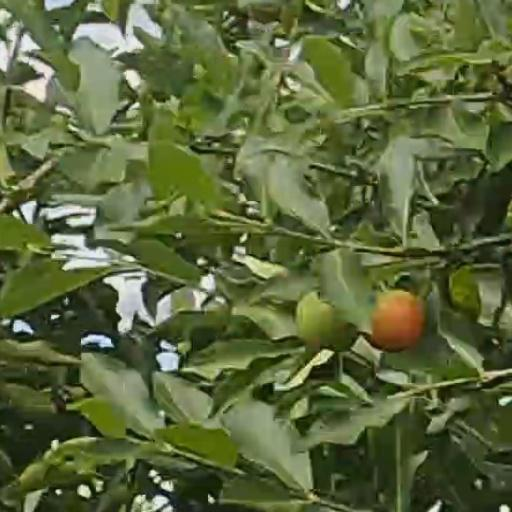acerola: (298, 291, 355, 352), (373, 292, 426, 352)
